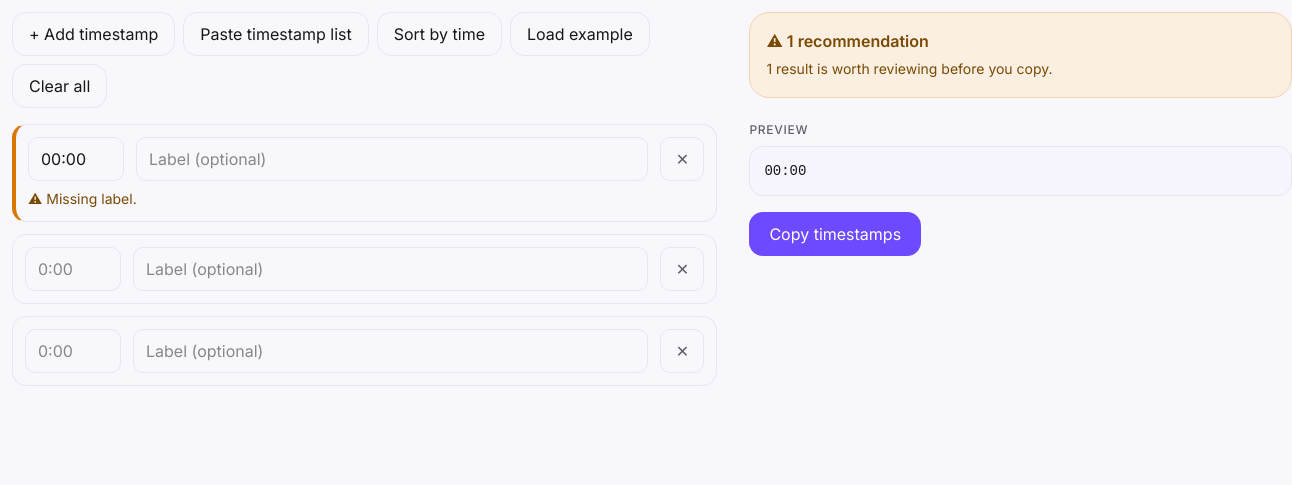
Test case: YoutubeTimestampGenerator › adds a new row
Click the button "+ Add timestamp" at (94, 34), box [12,12,175,56]
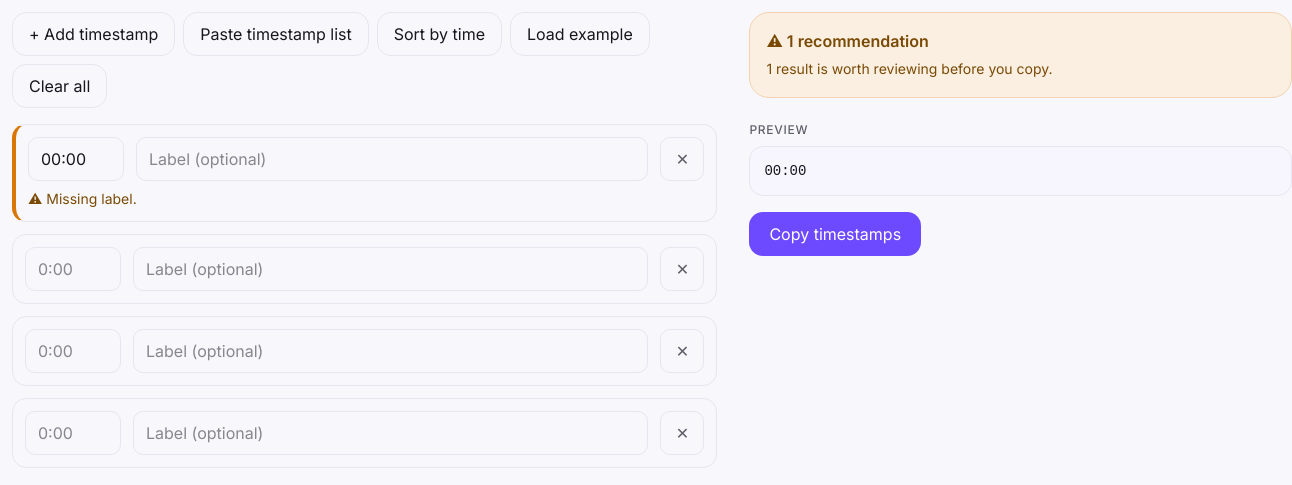
Now the number of list items is 4, box [12,124,717,222]; [12,234,717,304]; [12,316,717,386]; [12,398,717,468]
